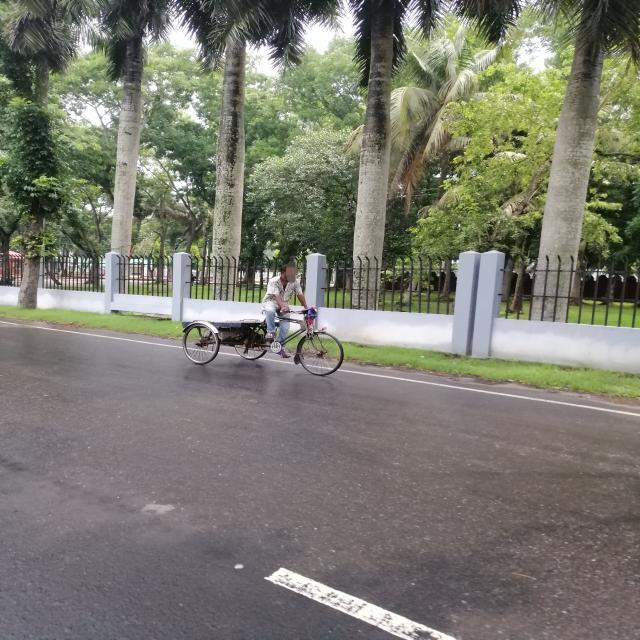Van: (177, 303, 356, 379)
